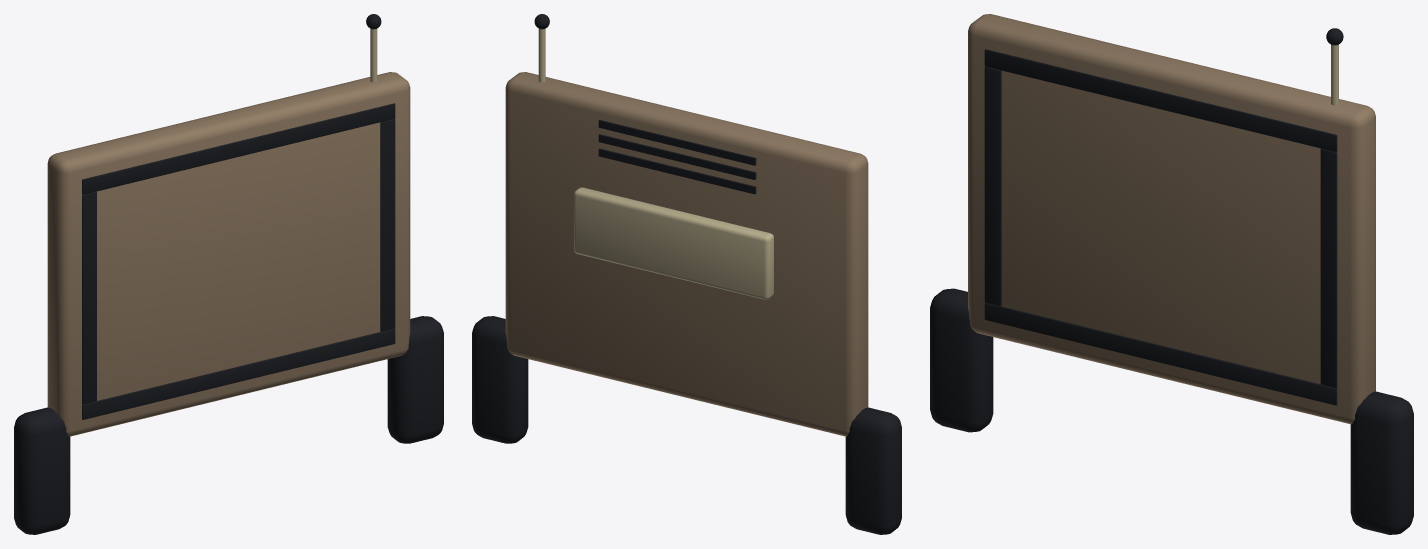
The model's file is hand_terminal.obj.
3 views of the same model, side by side, from view 1: azimuth 30°, elevation 25°; view 2: azimuth 150°, elevation 25°; view 3: azimuth 330°, elevation 25° (orthographic). The views are drawn at different scales.
Visible parts, largest first — view 1: body, grip_l, grip_r, bezel_top, bezel_bot, bezel_r, bezel_l; view 2: body, battery, grip_l, grip_r, vent0, vent1, vent2; view 3: body, grip_r, grip_l, bezel_top, bezel_bot, bezel_r, bezel_l.
Boxes of the visible parts, x1,y1,x2,y2 form: body: (47, 72, 410, 436); grip_l: (14, 407, 70, 534); grip_r: (387, 316, 443, 443); bezel_top: (82, 103, 395, 194); bezel_bot: (82, 328, 395, 419); bezel_r: (380, 119, 395, 331); bezel_l: (82, 191, 96, 404); body: (505, 72, 868, 436); battery: (574, 187, 773, 299); grip_l: (845, 407, 901, 534); grip_r: (472, 316, 528, 443); vent0: (598, 148, 756, 194); vent1: (598, 134, 756, 179); vent2: (598, 120, 756, 165); body: (968, 14, 1375, 424); grip_r: (1350, 391, 1413, 534); grip_l: (930, 288, 993, 432); bezel_top: (984, 49, 1337, 151); bezel_bot: (984, 303, 1337, 405); bezel_r: (1320, 148, 1337, 388); bezel_l: (984, 66, 1001, 306).
Bounding box in the file's own units: 0.432 × 0.4243 × 0.048.
